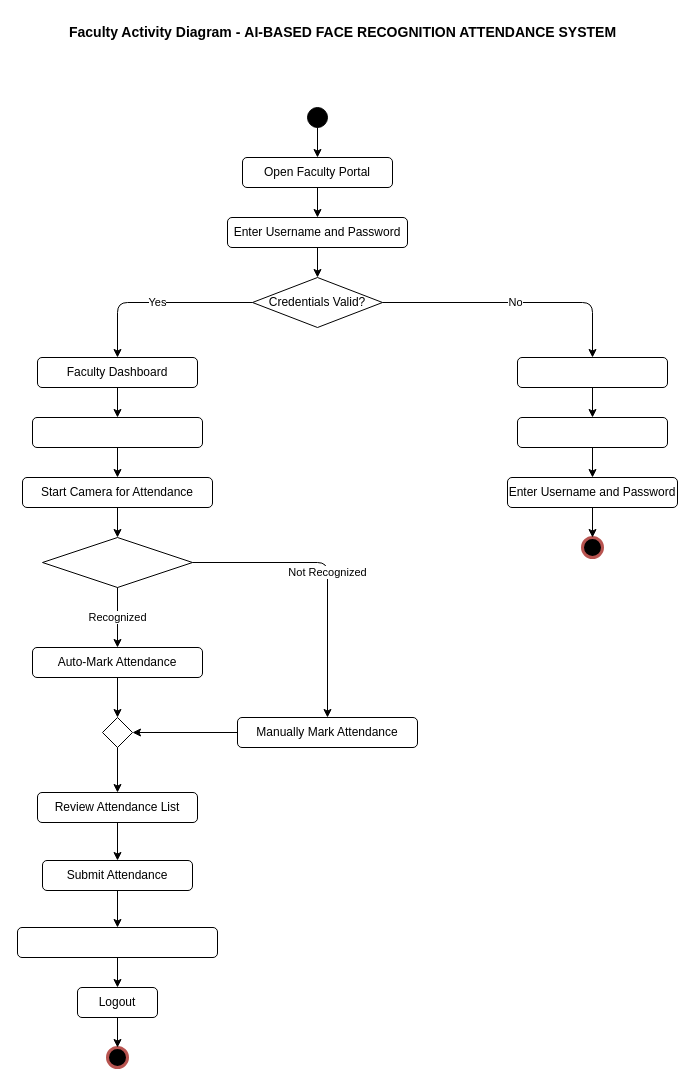
Image size: 695x1086. Some labels were removed from this diagram. The centre of each missing label's shape, as x and y in pixels:
Display Login Error: (x=592, y=372)
Face Recognized?: (x=117, y=562)
Re-enter Credentials: (x=592, y=432)
Select Class and Session: (x=117, y=432)
View Class Attendance Reports: (x=117, y=942)
